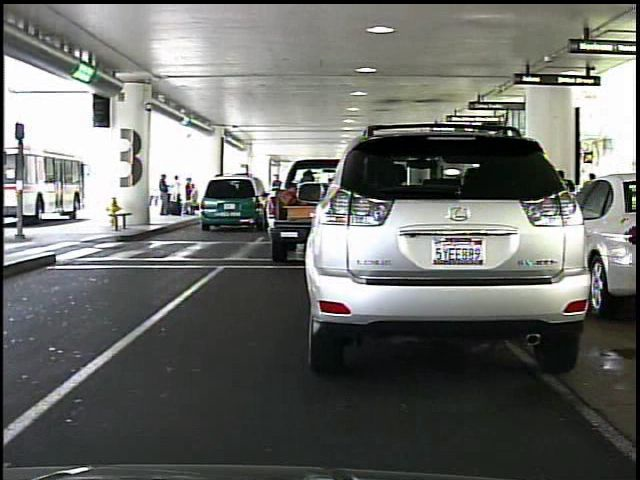person: (582, 169, 606, 234), (154, 166, 174, 219)
